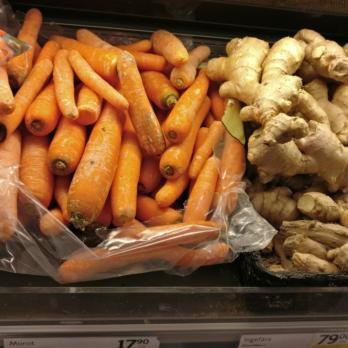Carrot: (0, 6, 216, 270)
Ginger: (234, 29, 348, 273)
